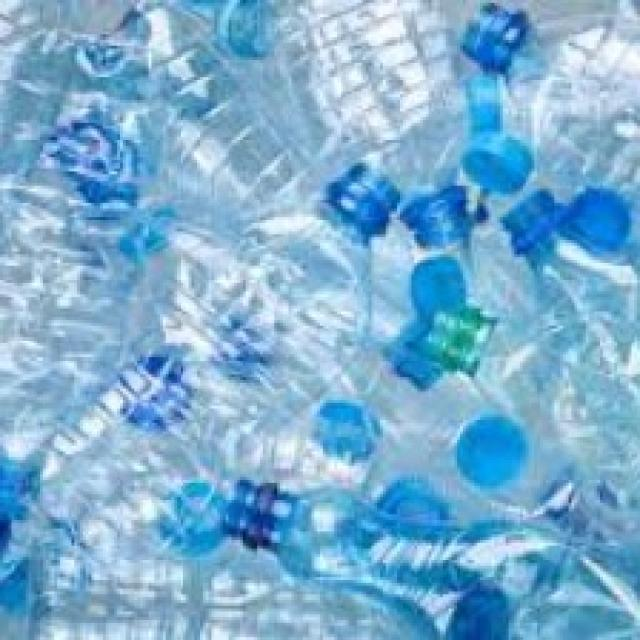heap: (45, 49, 580, 599)
plastic_bottle: (183, 160, 399, 449)
